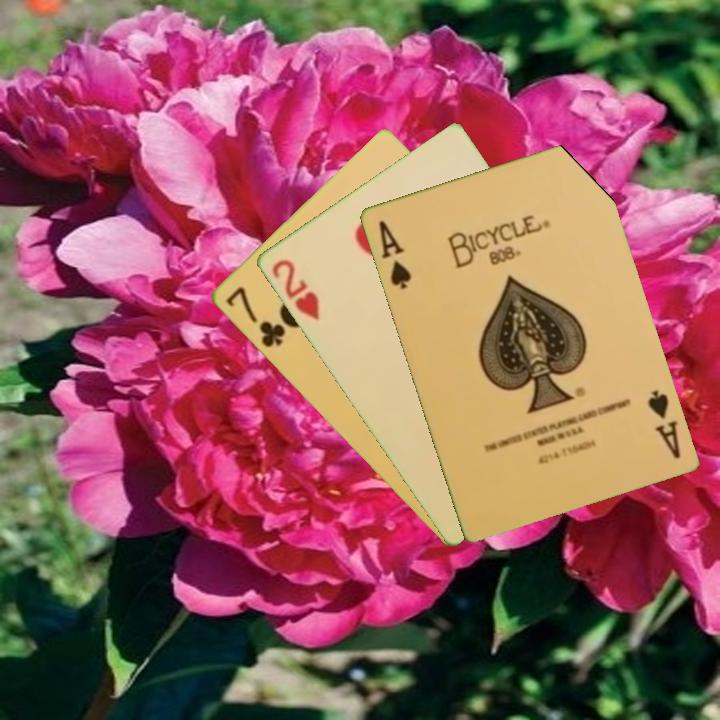2h: (267, 255, 322, 324)
7c: (221, 283, 288, 351)
As: (374, 216, 414, 292), (643, 385, 683, 461)
